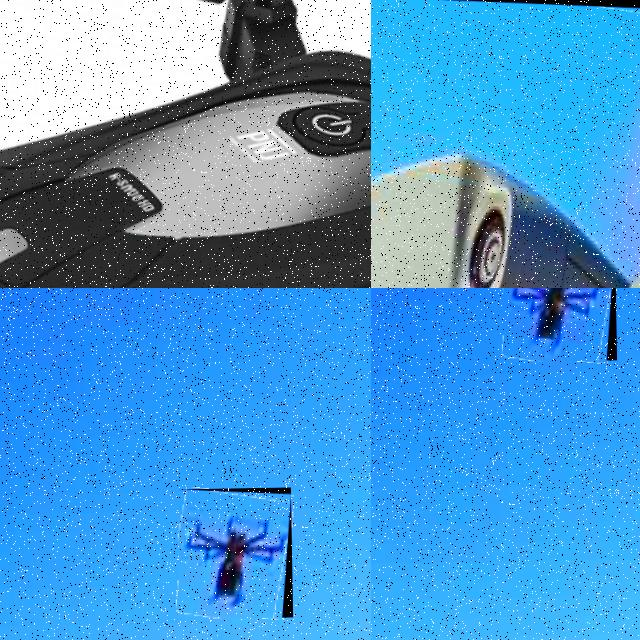drone: (0, 0, 371, 288), (371, 0, 640, 288), (176, 488, 292, 618), (501, 288, 616, 362)
